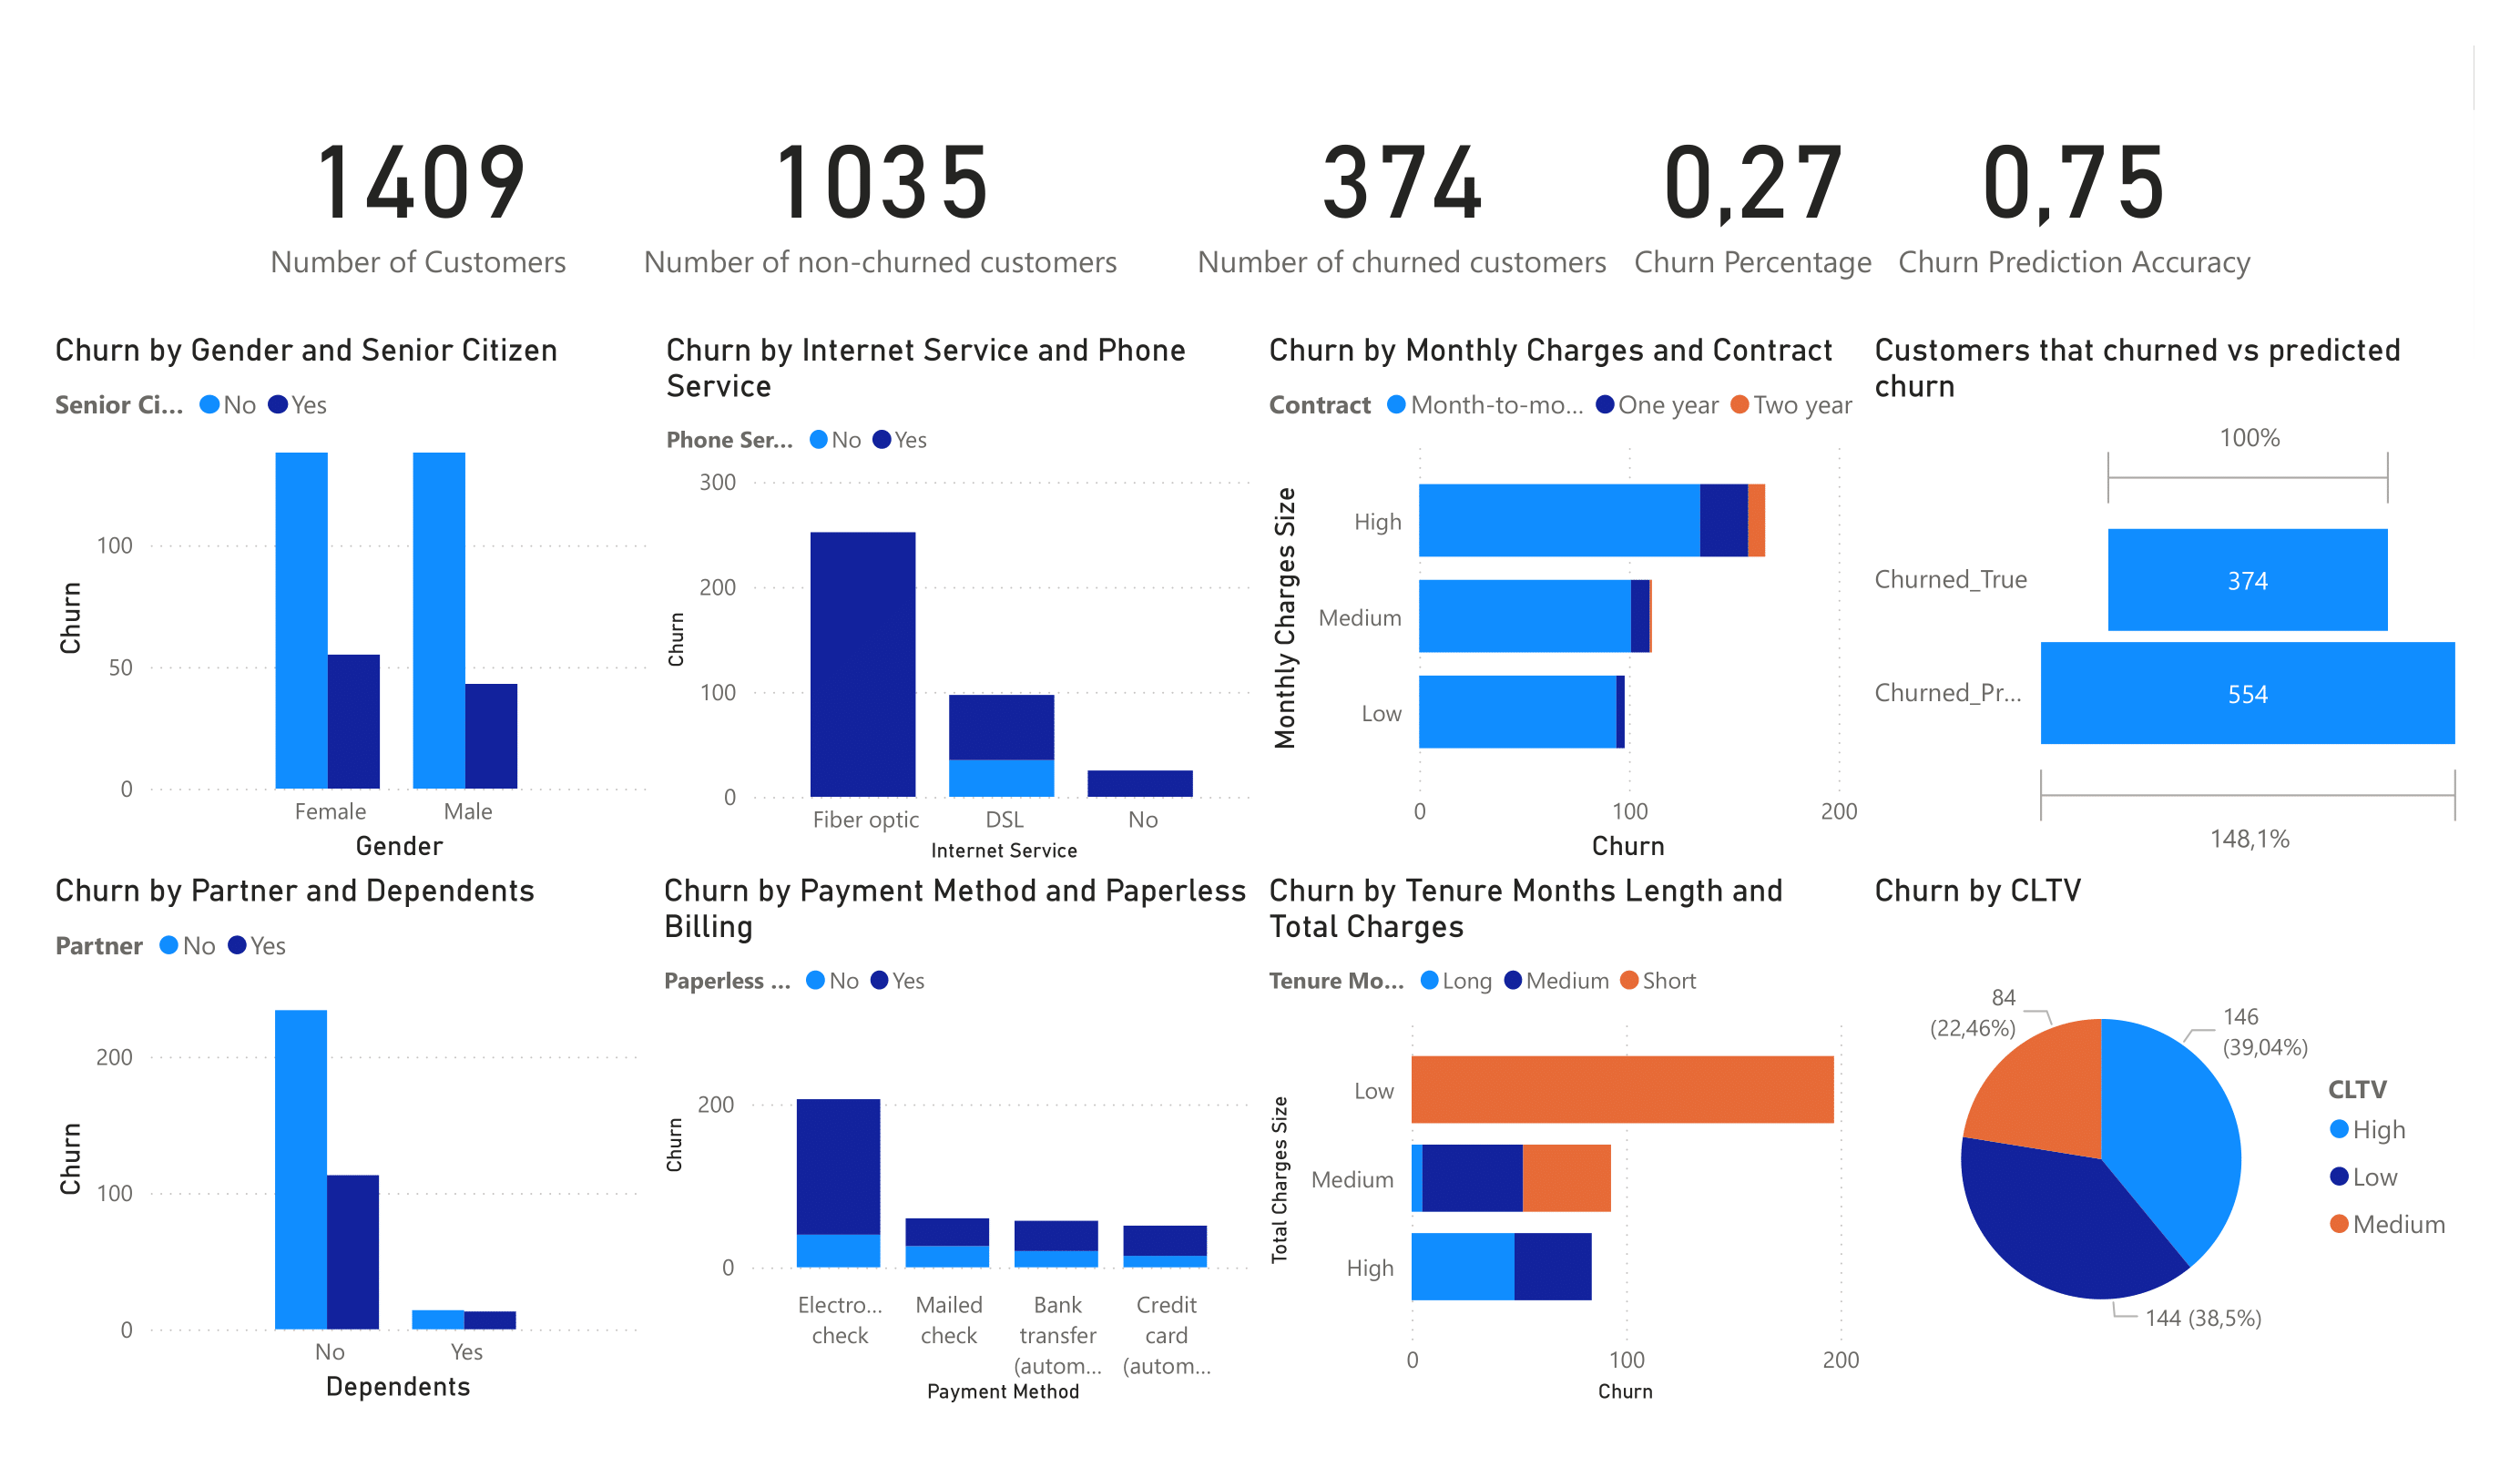

This screenshot's page, from the dashboard's own definition file:
{"tool":"powerbi","page":{"name":"Side 1","canvas":[1280,720],"ordinal":0},"visuals":[{"type":"card","fields":{"Values":["Avg(Forespørgsel1.y_true)"]},"box":[829.7,0,140.1,149.8],"z":0},{"type":"pieChart","title":"Churn by CLTV","fields":{"Y":["Sum(Attributes.y_true)"],"Category":["Attributes.CLTV Size"]},"box":[959,434.8,321,285],"z":1000},{"type":"card","fields":{"Values":["Attributes.Churn Prediction Accuracy"]},"box":[969.7,0,199.4,149.8],"z":2000},{"type":"barChart","title":"Churn by Tenure Months Length and Total Charges","fields":{"Category":["Attributes.Total Charges Size"],"Series":["Attributes.Tenure Months Length"],"Y":["Sum(Attributes.y_true)"]},"box":[640,434.8,321,285],"z":3000},{"type":"barChart","title":"Churn by Monthly Charges and Contract","fields":{"Category":["Attributes.Monthly Charges Size"],"Y":["Sum(Attributes.y_true)"],"Series":["Attributes.Contract"]},"box":[640,149.8,320,285],"z":4000},{"type":"columnChart","title":"Churn by Payment Method and Paperless Billing","fields":{"Category":["Attributes.Payment Method"],"Y":["Sum(Attributes.y_true)"],"Series":["Attributes.Paperless Billing"]},"box":[321,434.8,321,285],"z":5000},{"type":"columnChart","title":"Churn by Internet Service and Phone Service","fields":{"Category":["Attributes.Internet Service"],"Y":["Sum(Attributes.y_true)"],"Series":["Attributes.Phone Service"]},"box":[321.9,149.8,320,285],"z":6000},{"type":"clusteredColumnChart","title":"Churn by Partner and Dependents","fields":{"Category":["Attributes.Dependents"],"Series":["Attributes.Partner"],"Y":["Sum(Attributes.y_true)"]},"box":[0,434.8,321,285],"z":7000},{"type":"clusteredColumnChart","title":"Churn by Gender and Senior Citizen","fields":{"Category":["Attributes.Gender"],"Series":["Attributes.Senior Citizen"],"Y":["Sum(Attributes.y_true)"]},"box":[0,149.8,321.9,285],"z":8000},{"type":"funnel","title":"Customers that churned vs predicted churn","fields":{"Y":["Sum(Attributes.y_true)","Sum(Attributes.y_pred)"]},"box":[959,149.8,321,285],"z":9000},{"type":"card","fields":{"Values":["CountNonNull(Attributes.y_true)"]},"box":[110.9,0,171.2,149.8],"z":10000},{"type":"card","fields":{"Values":["CountNonNull(Attributes.y_true)"]},"box":[600.1,0,229.5,149.8],"z":11000},{"type":"card","fields":{"Values":["CountNonNull(Attributes.y_true)"]},"box":[280.1,0,320,149.8],"z":12000}]}

Visuals, with their boxes in screenshot pixels (x1, y1, x2, y2):
card - Avg(Forespørgsel1.y_true): crop(1750, 66, 2013, 346)
"Churn by CLTV" pieChart: crop(1993, 880, 2519, 1413)
card - Attributes.Churn Prediction Accuracy: crop(2013, 66, 2386, 346)
"Churn by Tenure Months Length and Total Charges" barChart: crop(1395, 880, 1996, 1413)
"Churn by Monthly Charges and Contract" barChart: crop(1395, 346, 1995, 880)
"Churn by Payment Method and Paperless Billing" columnChart: crop(798, 880, 1399, 1413)
"Churn by Internet Service and Phone Service" columnChart: crop(800, 346, 1399, 880)
"Churn by Partner and Dependents" clusteredColumnChart: crop(197, 880, 798, 1413)
"Churn by Gender and Senior Citizen" clusteredColumnChart: crop(197, 346, 800, 880)
"Customers that churned vs predicted churn" funnel: crop(1993, 346, 2519, 880)
card - CountNonNull(Attributes.y_true): crop(404, 66, 725, 346)
card - CountNonNull(Attributes.y_true): crop(1321, 66, 1750, 346)
card - CountNonNull(Attributes.y_true): crop(721, 66, 1321, 346)
